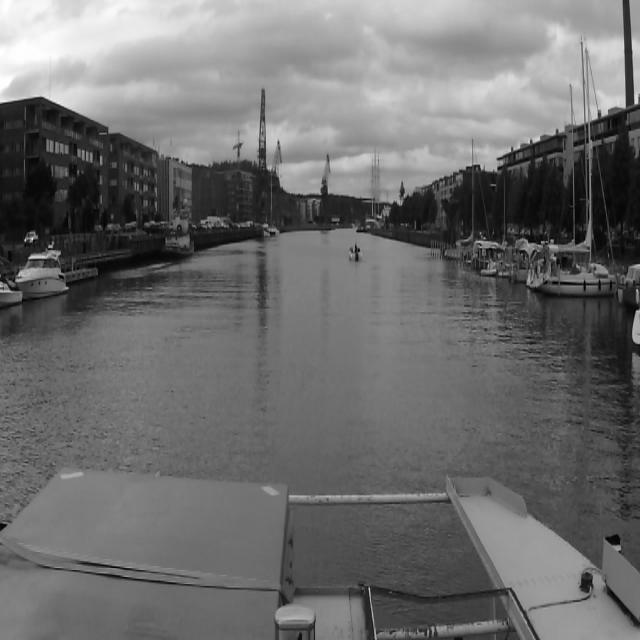ship: (528, 43, 618, 293), (445, 138, 487, 266), (14, 248, 70, 301), (165, 218, 193, 263), (346, 244, 364, 266), (262, 218, 270, 236)
